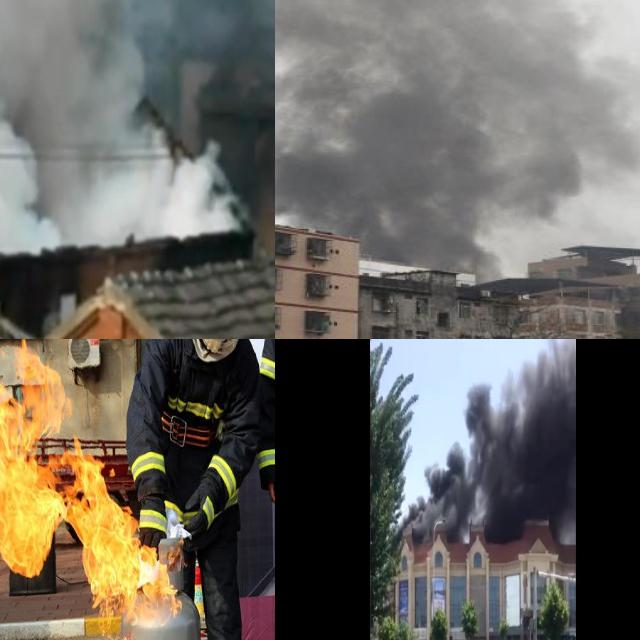fire: (0, 339, 163, 616)
smoke: (275, 0, 640, 260), (0, 0, 233, 236), (402, 339, 576, 546)
